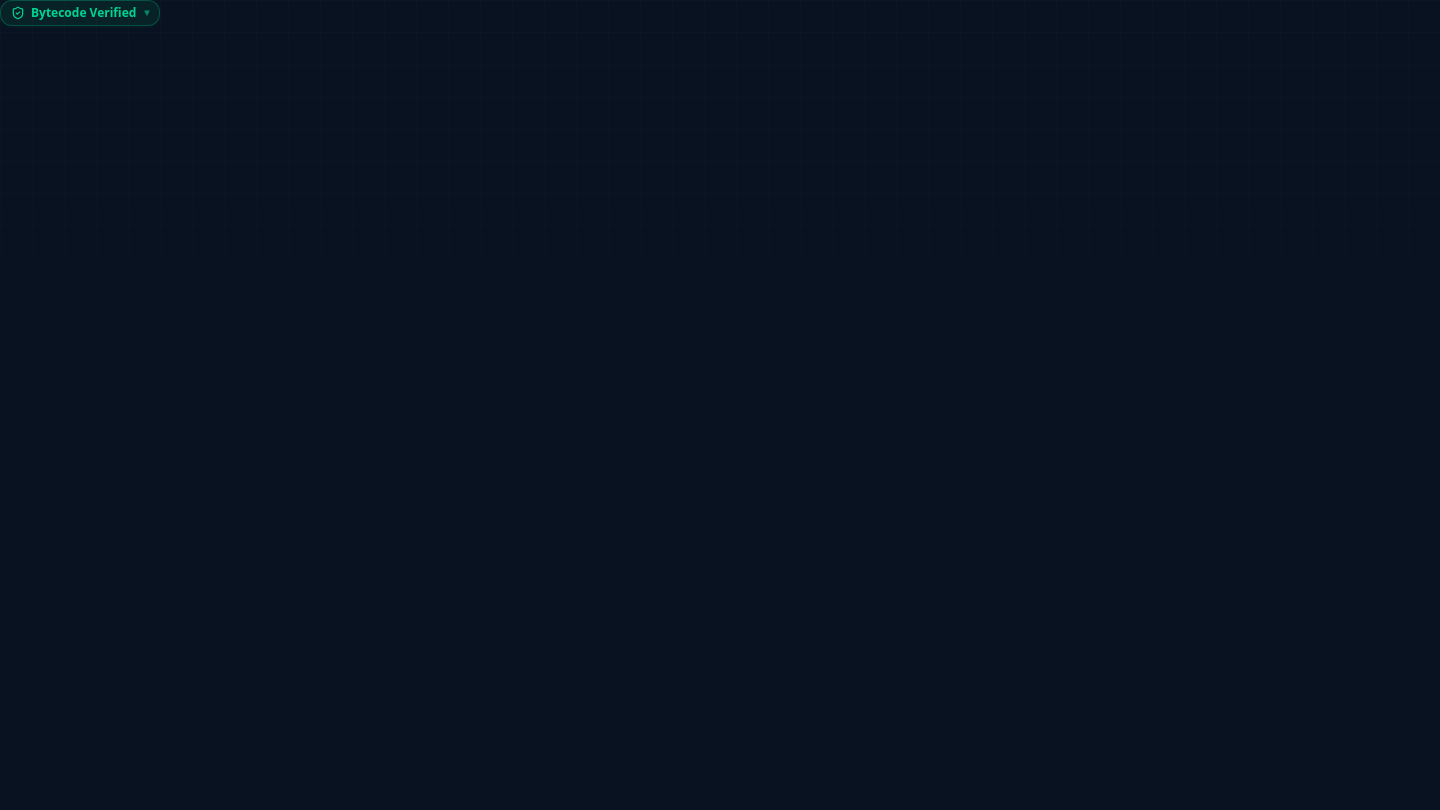
Scenario: VerificationBadge Component › opens Reproducible Build Inspector drawer and displays exact compiler, optimization, and commit SHA
Click badge to open drawer
Click the button with test id "verification-badge-verified" at (80,13), box [0,0,160,26]
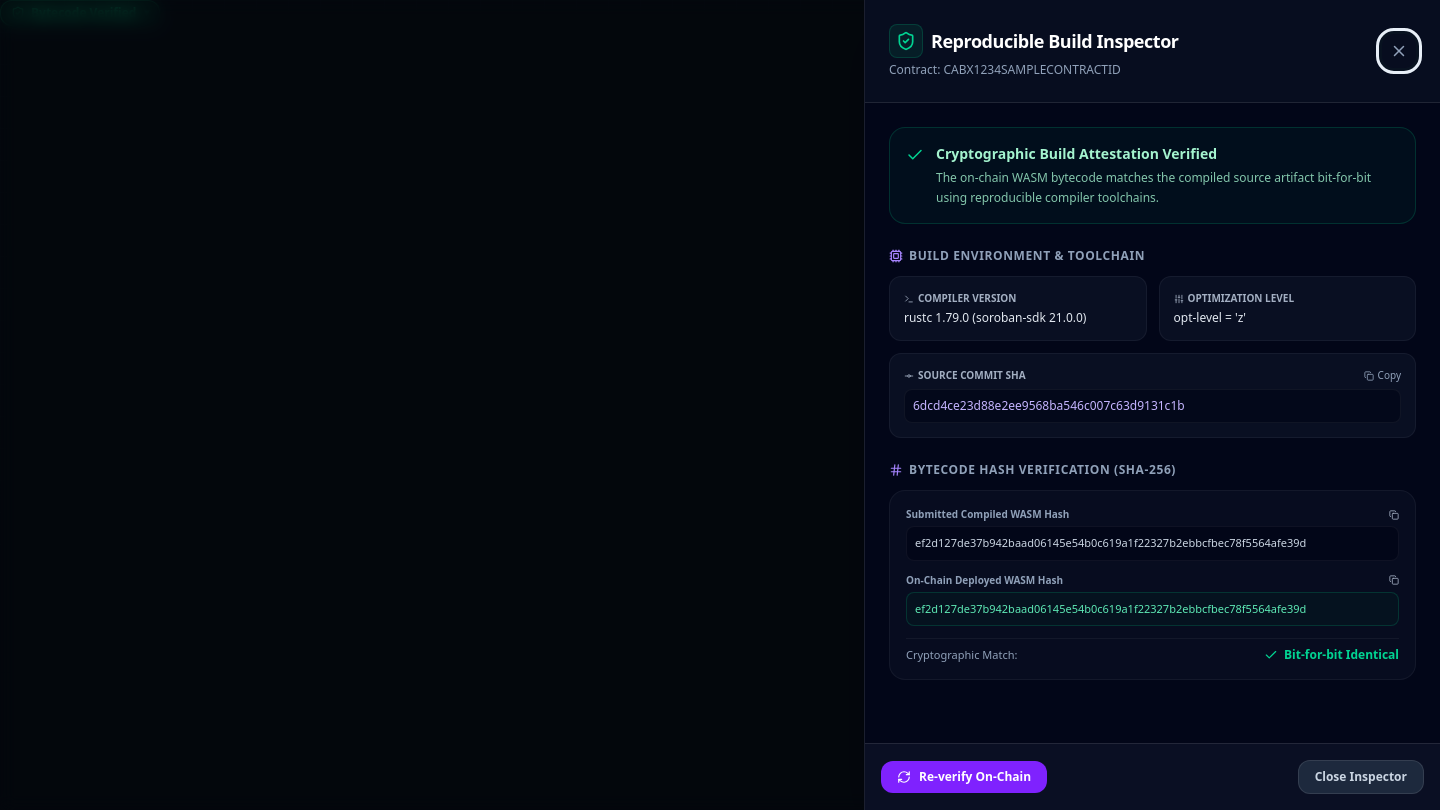
expect the dialog is shown: met
expect the heading "Reproducible Build Inspector" is shown: met, box [931,27,1179,55]
expect the text with test id "compiler-version" reads "rustc 1.79.0 (soroban-sdk 21.0.0)": met, box [904,309,1086,326]
